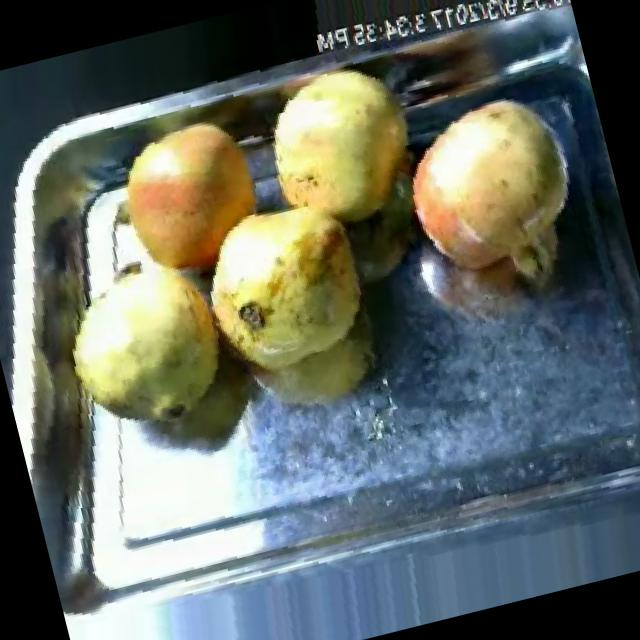fruit: (38, 232, 248, 463), (382, 81, 596, 306), (179, 175, 393, 398), (80, 100, 291, 306), (243, 48, 439, 250)
